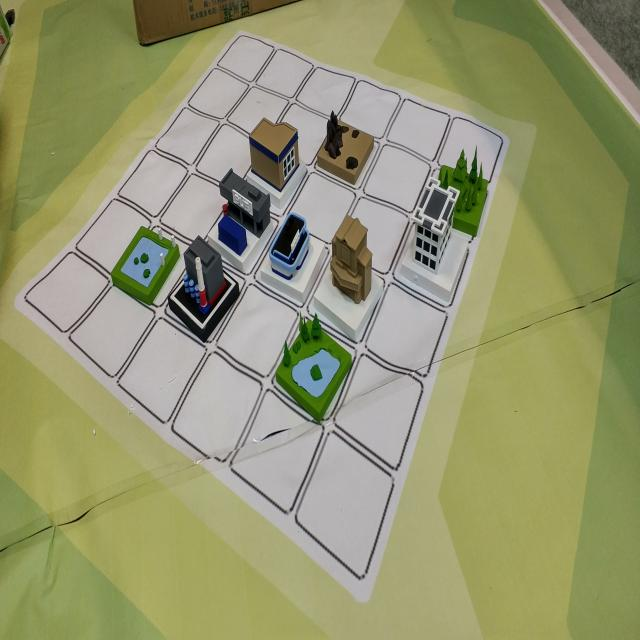bus_stop: (207, 158, 274, 272)
factory: (170, 228, 240, 336)
fish_pool: (108, 200, 174, 305)
forest: (440, 143, 499, 228)
gogo_shop: (258, 197, 328, 316)
research_build: (398, 184, 472, 309)
restaurant: (243, 110, 310, 212)
silicate_rock: (312, 101, 378, 194)
volunteer_center: (316, 209, 389, 335)
wet_land: (273, 308, 353, 426)
